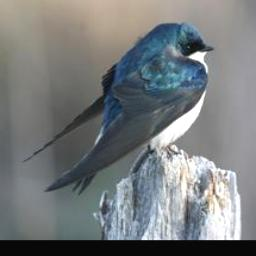Swallow: (20, 21, 213, 195)
